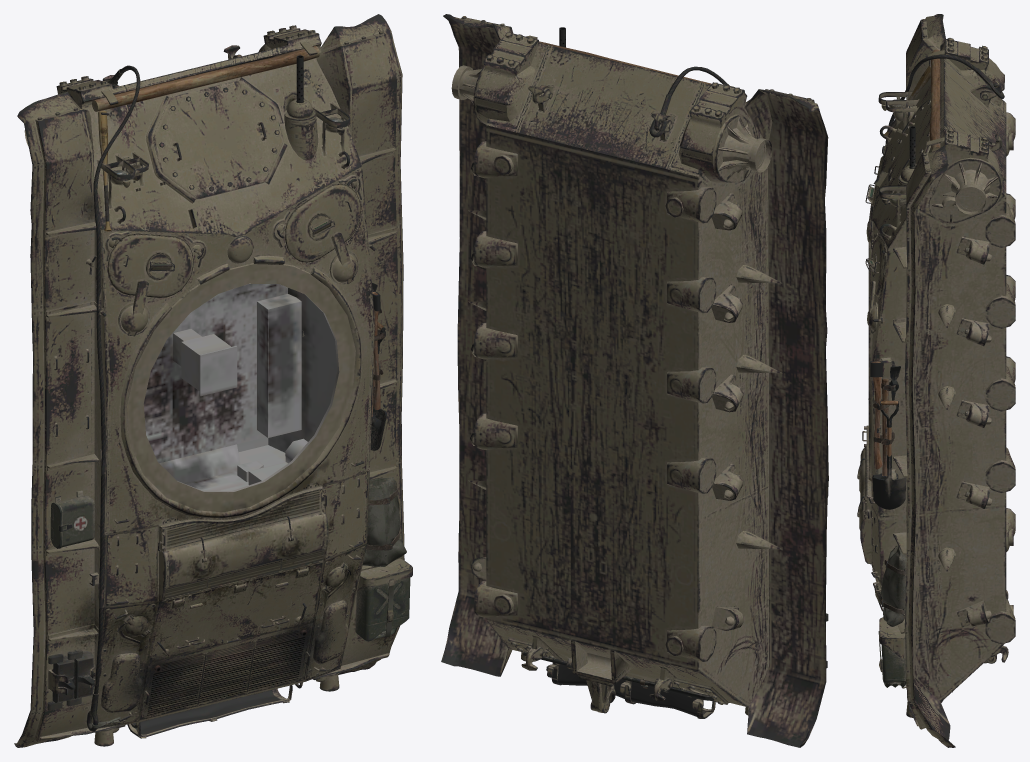
The model's file is Hull.glb.
3 views of the same model, side by side, from view 1: azimuth 30°, elevation 25°; view 2: azimuth 150°, elevation 25°; view 3: azimuth 270°, elevation 25° (orthographic). The views are drawn at different scales.
Visible parts, largest first — view 1: set_0_group_0, set_0_group_1; view 2: set_0_group_0; view 3: set_0_group_0.
Boxes of the visible parts, bbox=[...] form: set_0_group_0: bbox=[14, 14, 412, 747]; set_0_group_1: bbox=[143, 283, 339, 491]; set_0_group_0: bbox=[441, 14, 828, 747]; set_0_group_0: bbox=[857, 14, 1015, 747].
Size of the model in its own units: 2.99 by 5.05 by 1.23.
2 materials, 2 textured.
